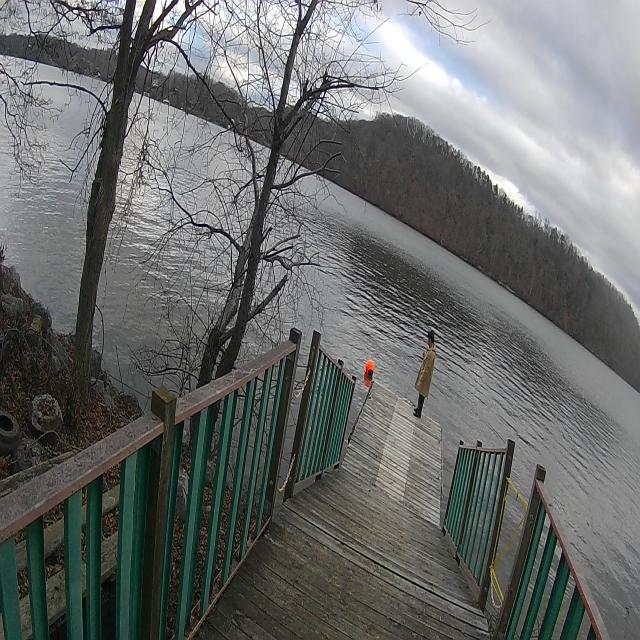Buoy: (362, 353, 376, 388)
